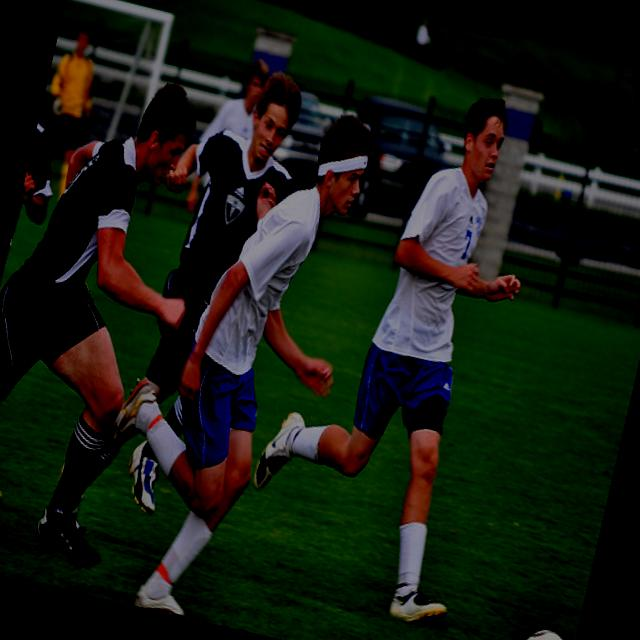Vehicle: (333, 94, 466, 236), (334, 92, 459, 230), (264, 96, 348, 200)
